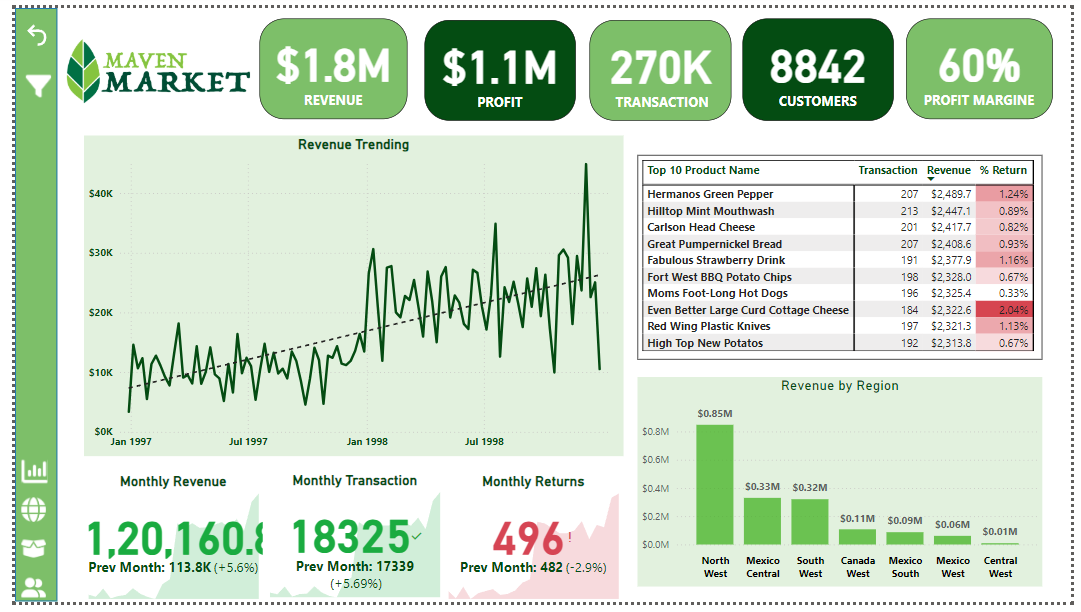

This screenshot's page, from the dashboard's own definition file:
{"tool":"powerbi","page":{"name":"Exec Dashboard","canvas":[1280,720],"ordinal":0},"visuals":[{"type":"actionButton","box":[3.3,541.7,48.3,40],"z":0,"group":"g1"},{"type":"card","fields":{"Values":["Measure Table.Total Revenue"]},"box":[296.3,13,179.6,122.2],"z":0},{"type":"image","box":[51.8,0,243.5,152.9],"z":1000},{"type":"actionButton","box":[4.1,589.1,45.6,37.8],"z":1000,"group":"g1"},{"type":"shape","box":[0,0,51.3,719.2],"z":2000},{"type":"actionButton","box":[4.1,636.9,45.6,37.8],"z":2000,"group":"g1"},{"type":"card","fields":{"Values":["Measure Table.Total Profit"]},"box":[496.3,14.8,183.3,122.2],"z":3000},{"type":"actionButton","box":[4.1,683.6,45.6,37.8],"z":3000,"group":"g1"},{"type":"card","fields":{"Values":["Measure Table.Total Transaction"]},"box":[696.3,14.8,172.2,122.2],"z":4000},{"type":"card","fields":{"Values":["Measure Table.Total Customers"]},"box":[881.5,13,183.3,124.1],"z":5000},{"type":"card","fields":{"Values":["Measure Table.Profit Margin"]},"box":[1079.6,13,177.8,122.2],"z":6000},{"type":"group","id":"g1","title":"Navigation Buttons","box":[3.3,541.7,48.3,178.3],"z":7000},{"type":"actionButton","box":[9.3,14.8,35.2,37],"z":8000},{"type":"actionButton","box":[9.3,74.1,38.9,40.7],"z":9000},{"type":"lineChart","title":" Revenue Trending","fields":{"Y":["Measure Table.Total Revenue"],"Category":["Calendar Lookup.Year","Calendar Lookup.Start of Month","Calendar Lookup.Start of Week","Calendar Lookup.Date"]},"box":[83.3,153.7,653.7,388.9],"z":10000},{"type":"kpi","title":"Monthly Revenue","fields":{"Indicator":["Measure Table.Total Revenue"],"TrendLine":["Calendar Lookup.Start of Month"],"Goal":["Measure Table.Previous Month Revenue"]},"box":[83.3,563,216.7,157.4],"z":11000},{"type":"kpi","title":"Monthly Transaction","fields":{"TrendLine":["Calendar Lookup.Start of Month"],"Goal":["Measure Table.Previous Month Transaction"],"Indicator":["Measure Table.Total Transaction"]},"box":[303.7,561.1,216.7,157.4],"z":12000},{"type":"kpi","title":"Monthly Returns","fields":{"TrendLine":["Calendar Lookup.Start of Month"],"Goal":["Measure Table.Previous Month Returns"],"Indicator":["Measure Table.Total Returns"]},"box":[520.4,563,216.7,157.4],"z":13000},{"type":"pivotTable","fields":{"Rows":["Product Lookup.product_name"],"Values":["Measure Table.Total Transaction","Measure Table.Total Revenue","Measure Table.Return rate"]},"box":[753.7,177.8,490.7,248.1],"z":14000},{"type":"columnChart","title":"Revenue by Region","fields":{"Y":["Measure Table.Total Revenue"],"Category":["Regions Lookup.sales_region"]},"box":[753.7,448.1,490.7,253.7],"z":15000}]}

Visuals, with their boxes on the page's 1280x720 design canvas (x1, y1, x2, y2). These are canvas units, not pixel positions in the 1081x612 screenshot, which may show the page scaled, cropped or inside an application window:
actionButton: [3, 542, 52, 582]
card - Measure Table.Total Revenue: [296, 13, 476, 135]
image: [52, 0, 295, 153]
actionButton: [4, 589, 50, 627]
shape: [0, 0, 51, 719]
actionButton: [4, 637, 50, 675]
card - Measure Table.Total Profit: [496, 15, 680, 137]
actionButton: [4, 684, 50, 721]
card - Measure Table.Total Transaction: [696, 15, 868, 137]
card - Measure Table.Total Customers: [882, 13, 1065, 137]
card - Measure Table.Profit Margin: [1080, 13, 1257, 135]
"Navigation Buttons" group: [3, 542, 52, 720]
actionButton: [9, 15, 44, 52]
actionButton: [9, 74, 48, 115]
" Revenue Trending" lineChart: [83, 154, 737, 543]
"Monthly Revenue" kpi: [83, 563, 300, 720]
"Monthly Transaction" kpi: [304, 561, 520, 718]
"Monthly Returns" kpi: [520, 563, 737, 720]
pivotTable - Product Lookup.product_name x Measure Table.Total Transaction: [754, 178, 1244, 426]
"Revenue by Region" columnChart: [754, 448, 1244, 702]
